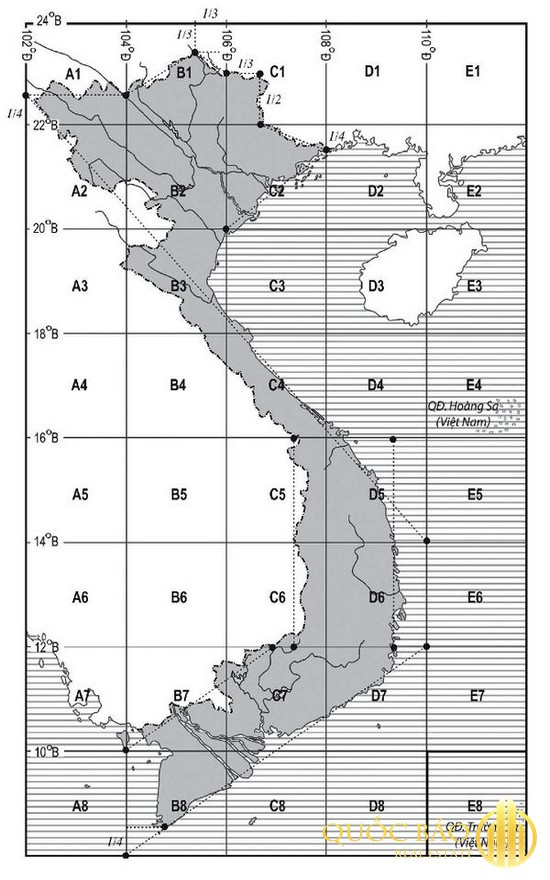Island: (430, 393, 521, 433)
